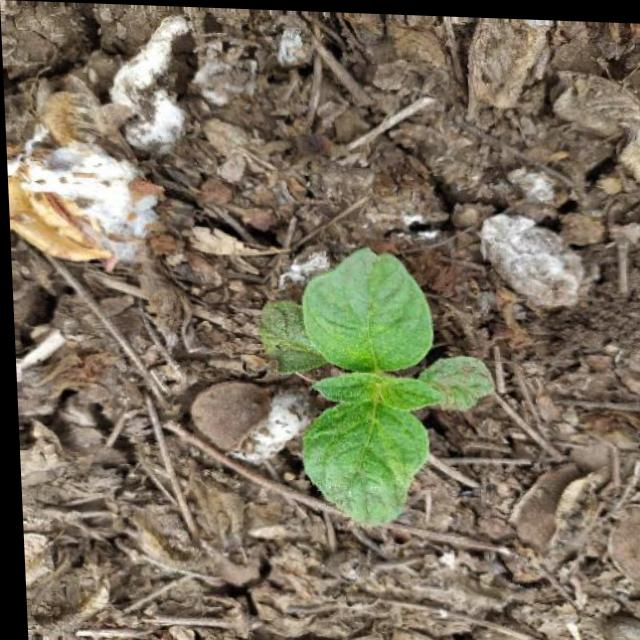crop: (247, 241, 494, 525)
